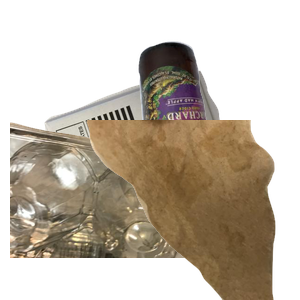glass: (136, 39, 300, 219)
paper: (42, 68, 275, 248)
plastic: (10, 120, 250, 300)
trash: (84, 120, 300, 300)
